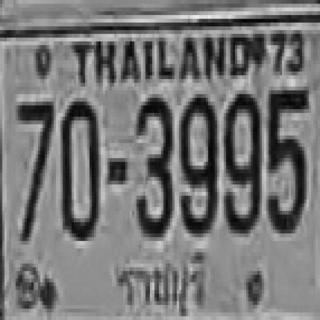N00: (61, 98, 98, 237)
N03: (135, 94, 171, 233)
N05: (266, 86, 307, 230)
N07: (16, 98, 51, 237)
N09: (222, 90, 260, 230), (179, 90, 215, 234)
P52: (112, 245, 212, 320)
